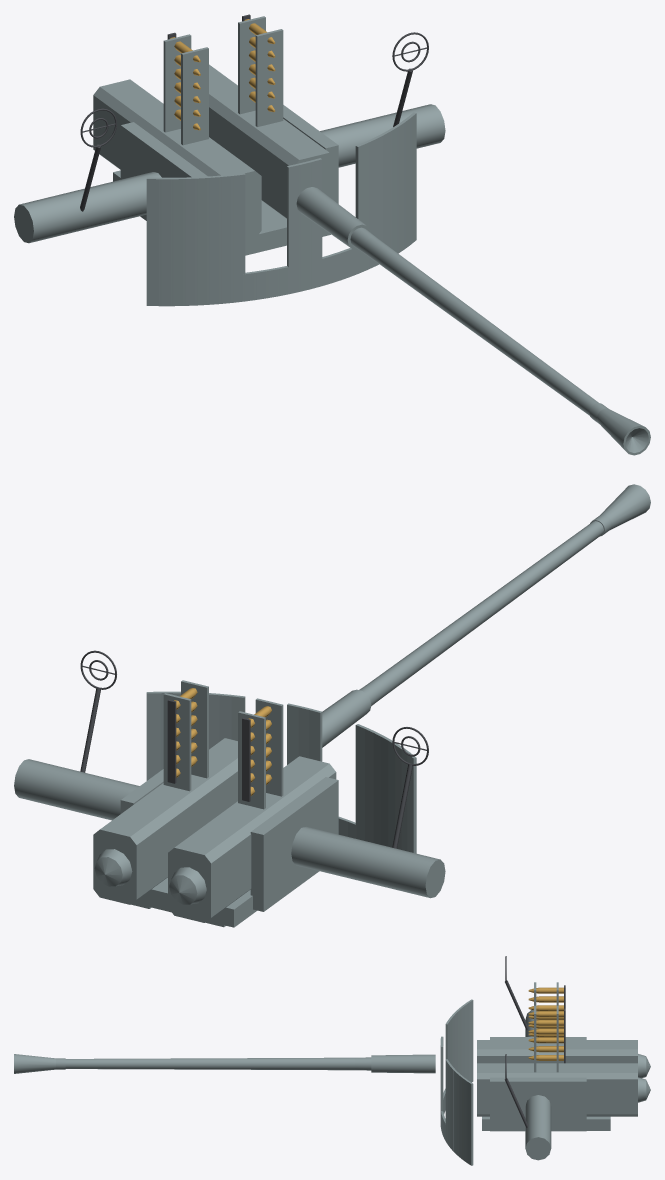
The model's file is breda_37_twin.obj.
The picture shows the model from 3 angles, top to bottom: view 1: azimuth 30°, elevation 25°; view 2: azimuth 150°, elevation 25°; view 3: azimuth 270°, elevation 25°; orthographic projection. The views are drawn at different scales.
Visible parts, largest first — view 1: turret_0, yaw_0, barrel_0, turret_2, turret_1; view 2: turret_0, yaw_0, barrel_0, turret_2, turret_1; view 3: turret_0, barrel_0, yaw_0, turret_1, turret_2.
Boxes of the visible parts, left/top/right/bottom form: turret_0: left=14, top=16, right=445, bottom=255; yaw_0: left=146, top=112, right=416, bottom=306; barrel_0: left=296, top=187, right=650, bottom=455; turret_2: left=80, top=14, right=428, bottom=211; turret_1: left=170, top=19, right=275, bottom=130; turret_0: left=14, top=680, right=445, bottom=927; yaw_0: left=146, top=691, right=416, bottom=853; barrel_0: left=322, top=484, right=650, bottom=747; turret_2: left=80, top=650, right=428, bottom=848; turret_1: left=174, top=688, right=271, bottom=795; turret_0: left=477, top=982, right=650, bottom=1160; barrel_0: left=14, top=1054, right=435, bottom=1073; yaw_0: left=440, top=999, right=473, bottom=1165; turret_1: left=528, top=987, right=563, bottom=1060; turret_2: left=504, top=956, right=565, bottom=1128.
Bounding box in the file's own units: 1.9 × 0.86 × 3.96.
